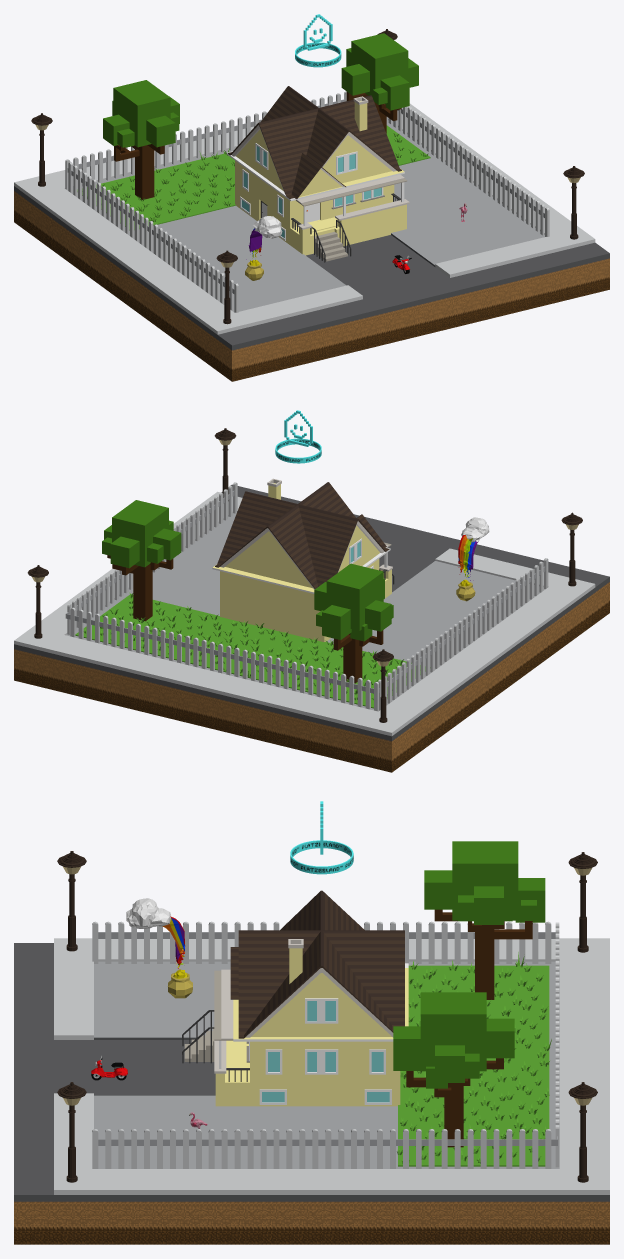
The picture shows the model from 3 angles, top to bottom: view 1: azimuth 30°, elevation 25°; view 2: azimuth 150°, elevation 25°; view 3: azimuth 270°, elevation 25°; orthographic projection. The views are drawn at different scales.
Parts seen in each view (by area): view 1: Cube.004, Cube.1555, OBJRANDOM_RAINBOW, TYPE_PREMIUM; view 2: Cube.004, Cube.1555, OBJRANDOM_RAINBOW, TYPE_PREMIUM; view 3: Cube.004, Cube.1555, OBJRANDOM_RAINBOW, TYPE_PREMIUM.
Part boxes in pixels (<box>): Cube.004: <box>14,29,609,381</box>; Cube.1555: <box>226,86,409,262</box>; OBJRANDOM_RAINBOW: <box>245,216,282,280</box>; TYPE_PREMIUM: <box>295,14,341,67</box>; Cube.004: <box>14,428,609,772</box>; Cube.1555: <box>212,478,394,641</box>; OBJRANDOM_RAINBOW: <box>456,517,489,601</box>; TYPE_PREMIUM: <box>275,410,321,463</box>; Cube.004: <box>14,841,609,1244</box>; Cube.1555: <box>182,890,408,1106</box>; OBJRANDOM_RAINBOW: <box>126,898,192,998</box>; TYPE_PREMIUM: <box>290,801,353,874</box>.
Bounding box in the file's own units: 4000 × 2483 × 4000.
Materials: 43 (4 with a texture image).
